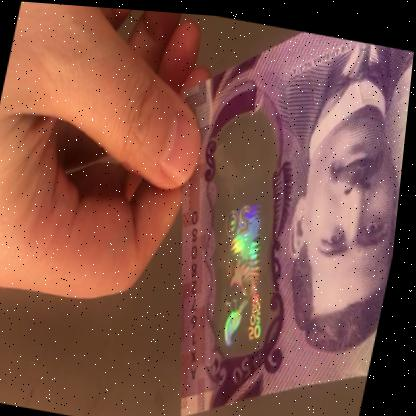50F: (184, 117, 309, 353)
